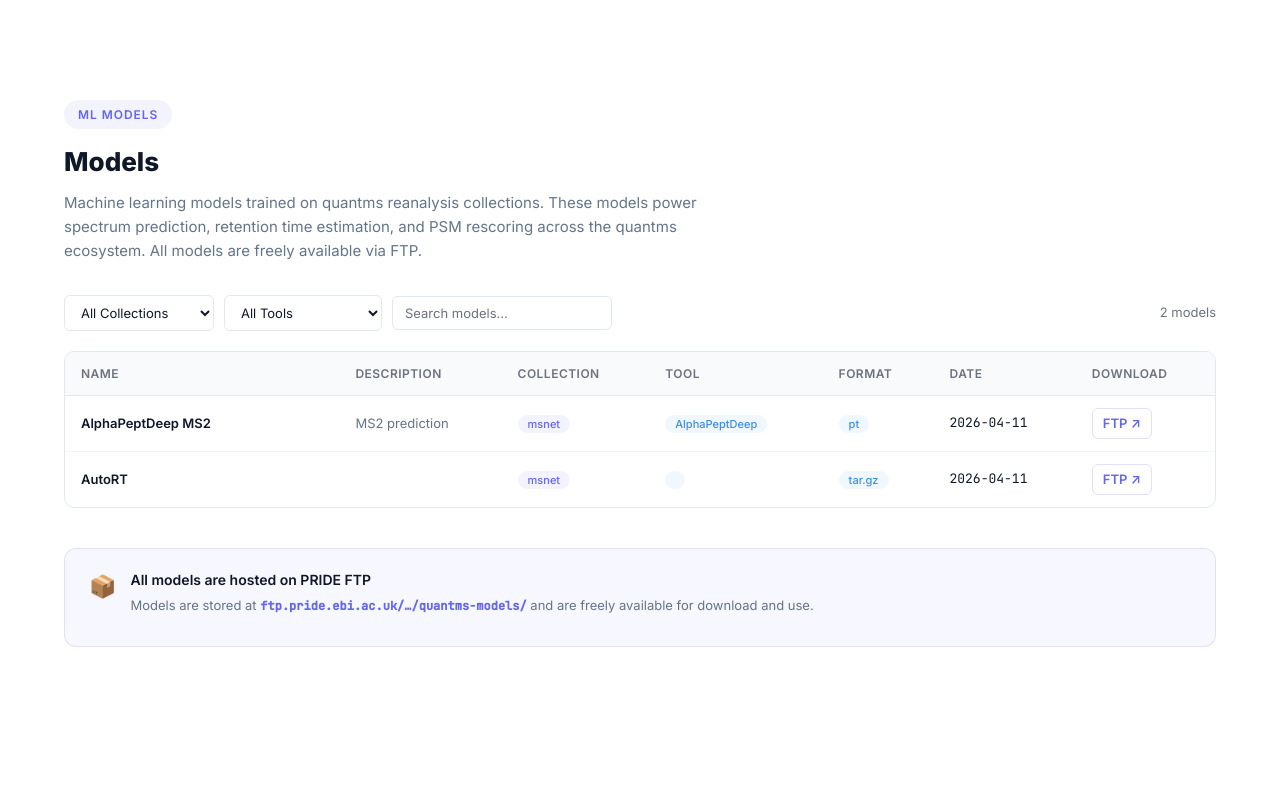
Models view › suggests adjusting filters only when models exist
Type "zzz" into the field named "Search models" at (502, 313), box [392,296,612,330]
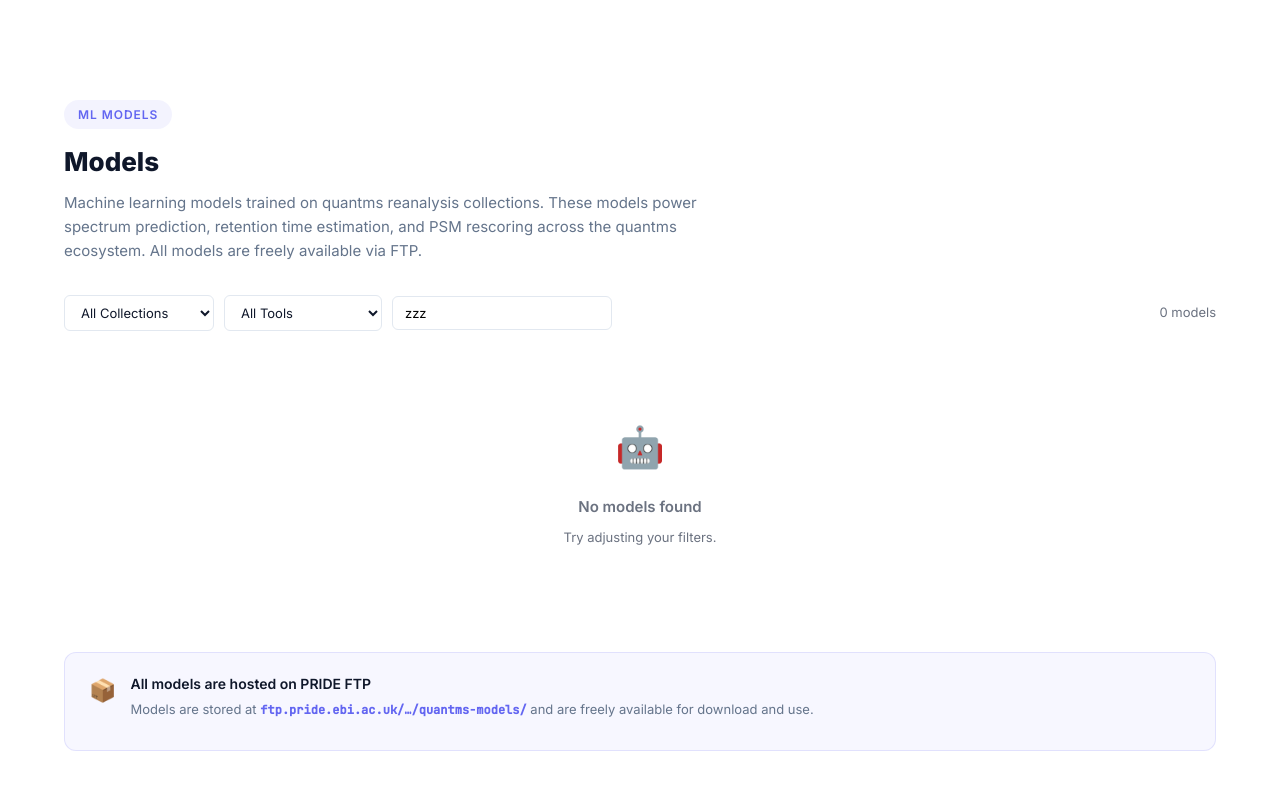
Result: the text "No models found" is shown at [578,497,702,516]
Result: the text "Try adjusting your filters" is shown at [564,529,716,545]
